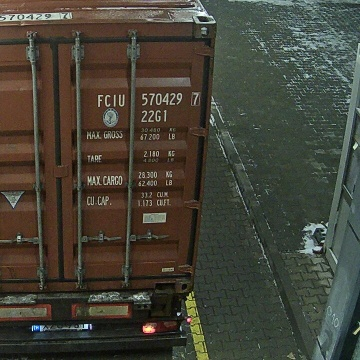serial_id: (97, 93, 199, 107)
